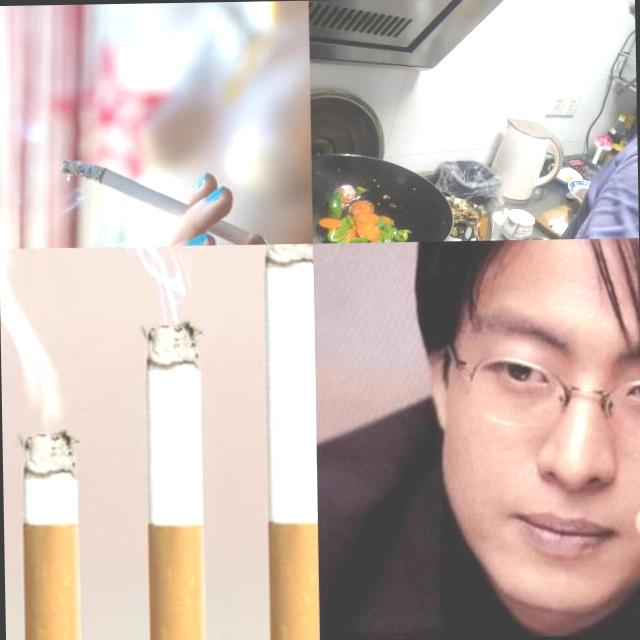cigarette: (260, 243, 319, 640), (141, 319, 205, 640), (60, 156, 251, 248), (19, 430, 81, 640), (615, 70, 636, 94)
